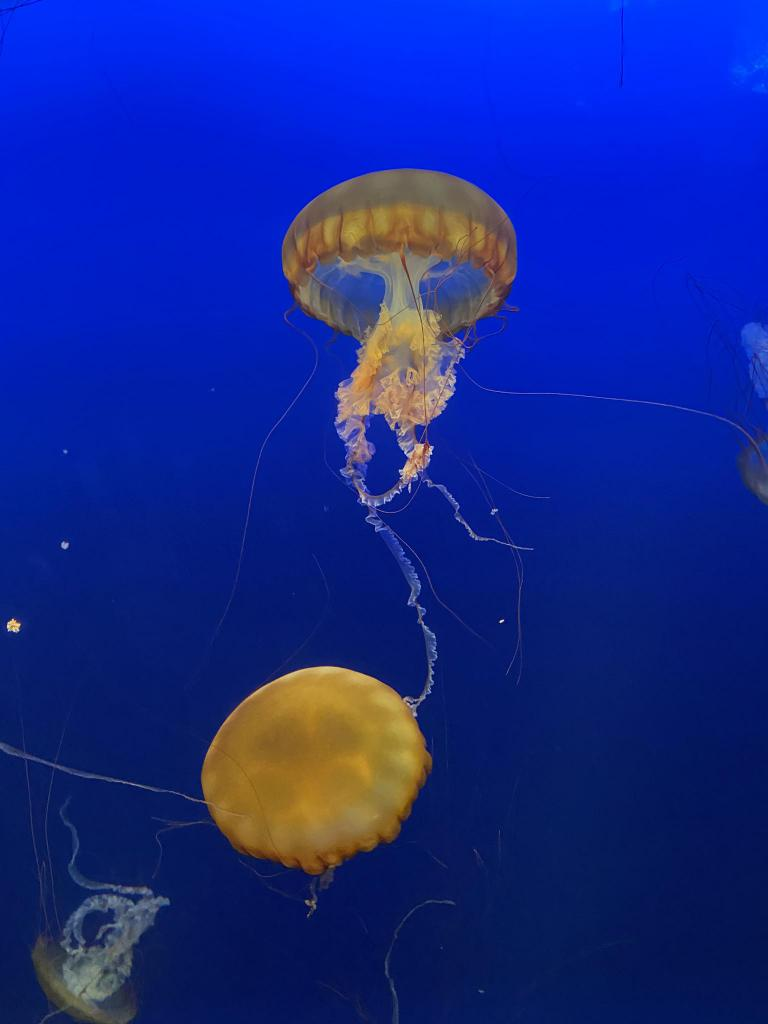jellyfish: (202, 666, 430, 874), (282, 168, 516, 338), (33, 934, 139, 1024), (738, 429, 768, 511)
